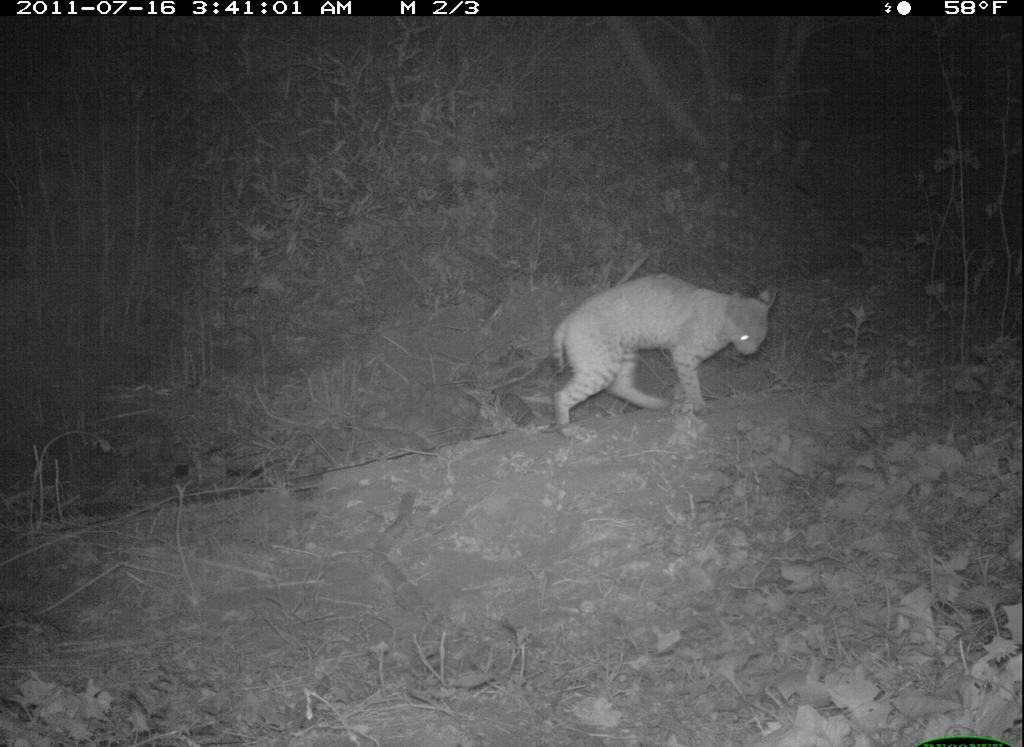bobcat: (527, 259, 786, 459)
